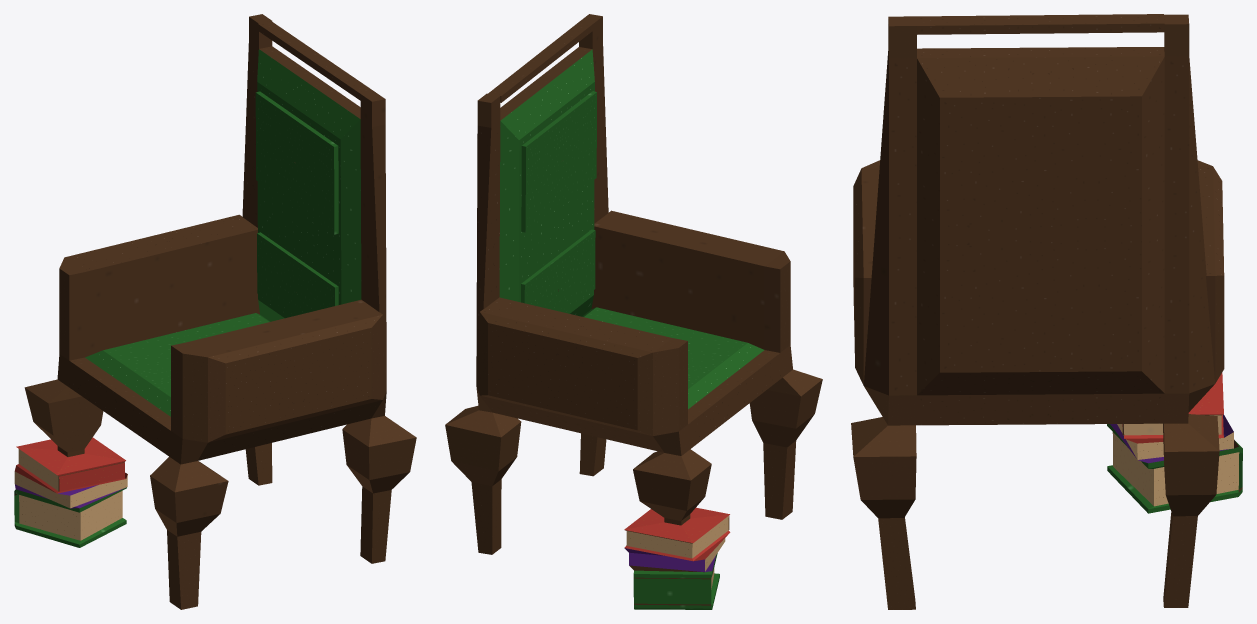
The model's file is wizard chair.fbx.
The picture shows the model from 3 angles, left to right: view 1: azimuth 30°, elevation 25°; view 2: azimuth 150°, elevation 25°; view 3: azimuth 270°, elevation 25°; orthographic projection. The views are drawn at different scales.
Parts seen in each view (by area): view 1: Cube; view 2: Cube; view 3: Cube.
Boxes of the visible parts, x1=… form: Cube: x1=14, y1=14, x2=416, y2=609; Cube: x1=445, y1=14, x2=822, y2=609; Cube: x1=851, y1=14, x2=1242, y2=609.
Size of the model in its own units: 211 by 351 by 212.
